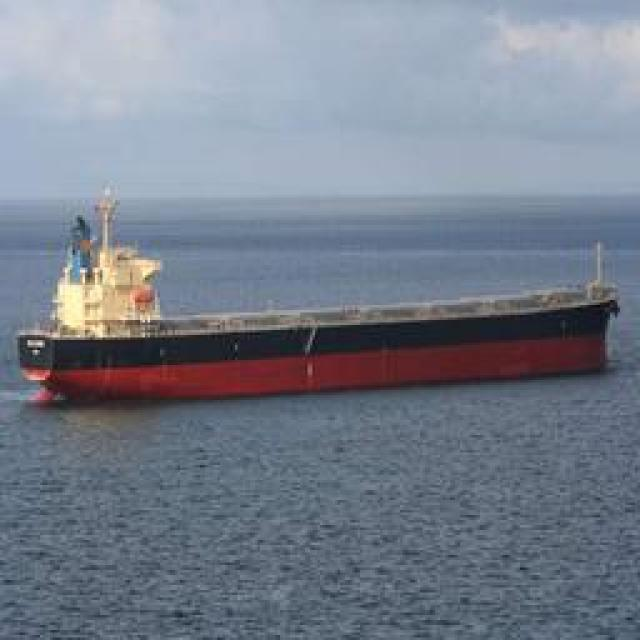ship2: (13, 180, 622, 407)
